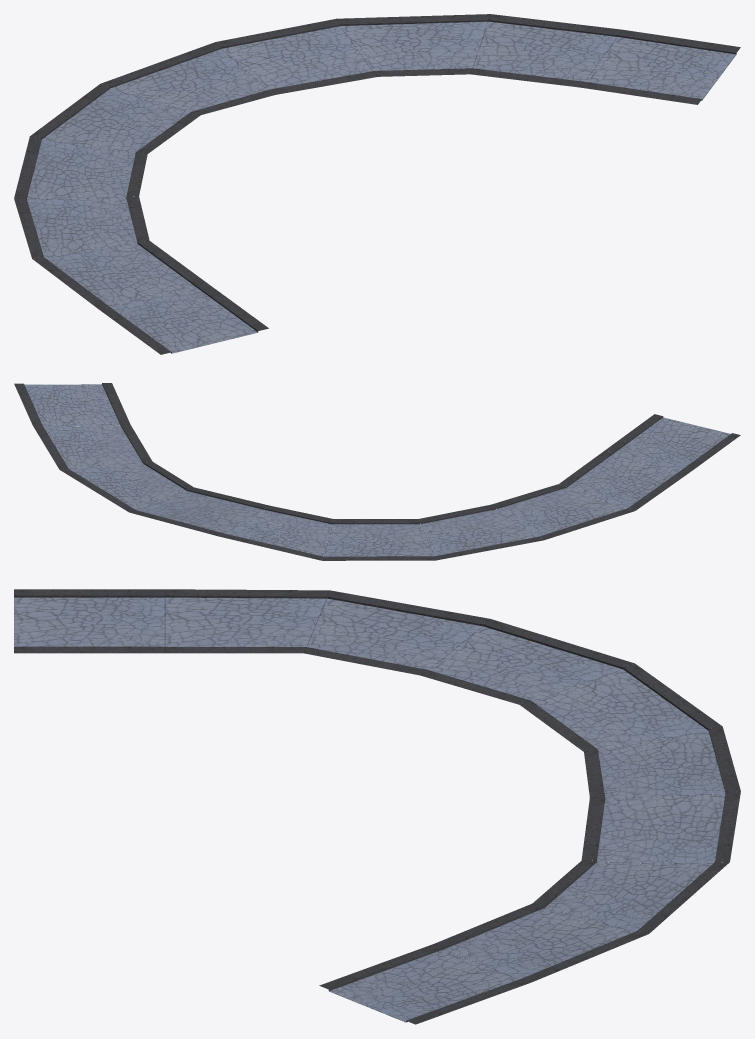
The model's file is map_2024.a.fbx.
3 renders of one model, top to bottom at view 1: azimuth 30°, elevation 25°; view 2: azimuth 150°, elevation 25°; view 3: azimuth 270°, elevation 25°, orthographic. The views are drawn at different scales.
Parts seen in each view (by area): view 1: Plane; view 2: Plane; view 3: Plane.
Boxes of the visible parts, x1,y1,x2,y2 form: Plane: (14, 14, 740, 354); Plane: (14, 383, 740, 560); Plane: (14, 589, 740, 1024).
Bounding box in the file's own units: 1376 × 19.56 × 960.
